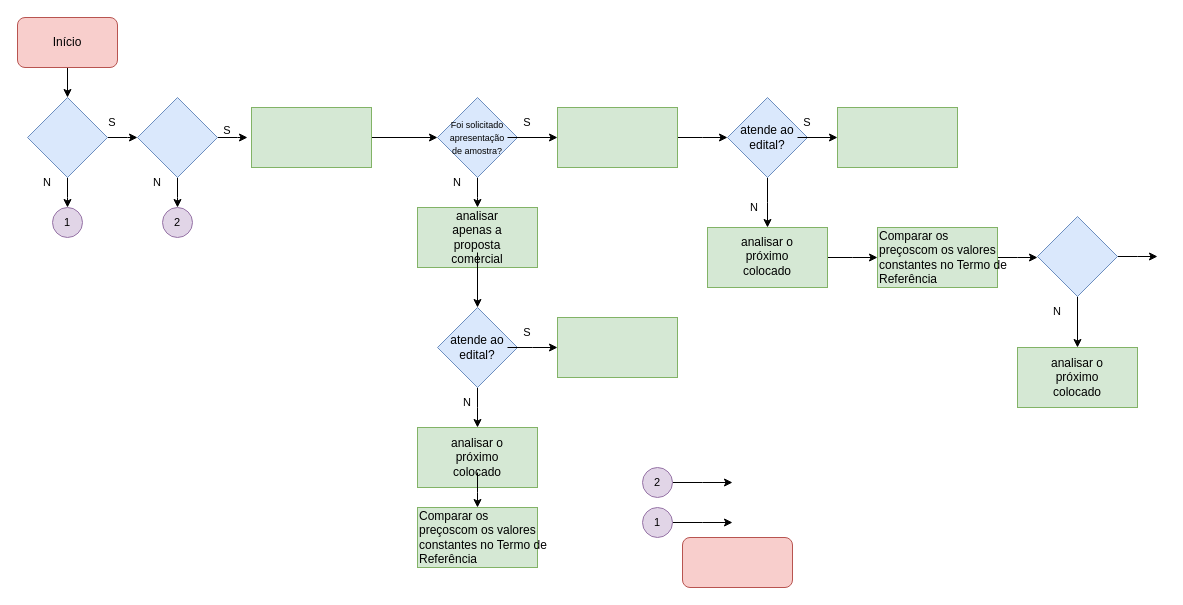
Some shapes in this 1183 by 605 pixel diagram are drawn without their labels. Here are the shapes that lost their labels. From the top down, the centre of each, then its label:
the point at 67,137: É aceitável?
the point at 177,137: Está conforme o edtal?
the point at 311,137: selecionar a proposta de menor preço;
the point at 617,137: analisar a amostra
the point at 1077,256: O valor está aceitável?
the point at 737,562: Fim
